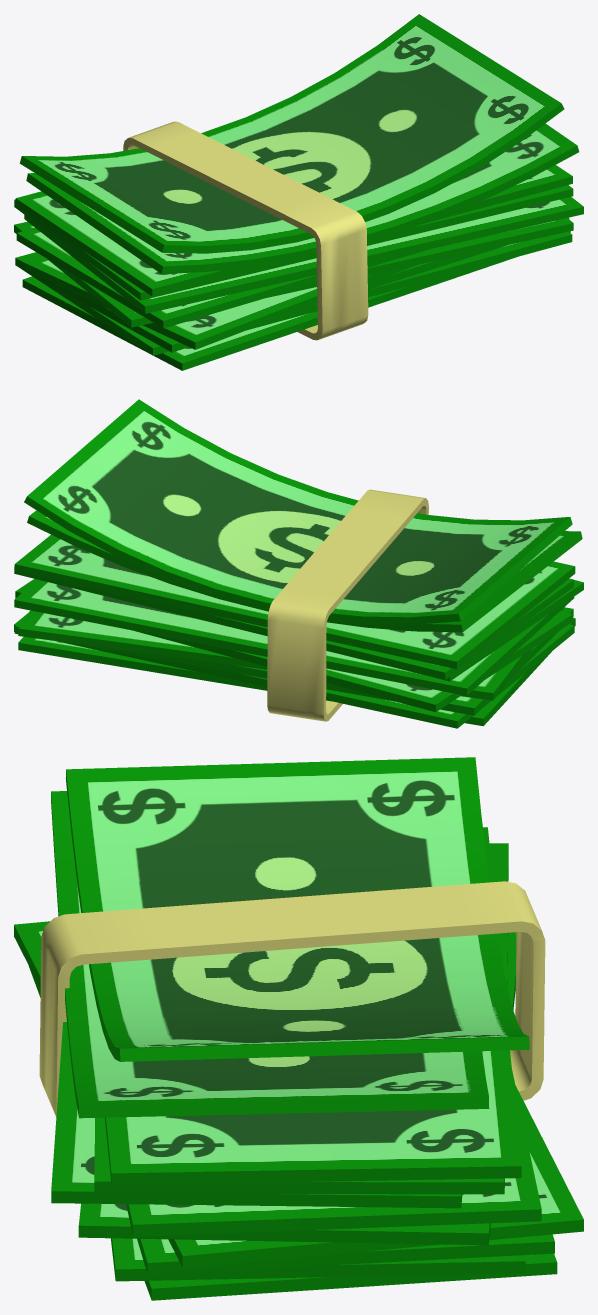
File: MoneyBale.fbx
The picture shows the model from 3 angles, top to bottom: view 1: azimuth 30°, elevation 25°; view 2: azimuth 150°, elevation 25°; view 3: azimuth 270°, elevation 25°; orthographic projection. The views are drawn at different scales.
Visible parts, largest first — view 1: MoneyBale; view 2: MoneyBale; view 3: MoneyBale.
Part boxes in pixels (left/top/right/bottom): MoneyBale: left=14, top=14, right=583, bottom=370; MoneyBale: left=14, top=399, right=583, bottom=728; MoneyBale: left=14, top=757, right=583, bottom=1300.
Size of the model in its own units: 28.15 by 9.11 by 18.43.
